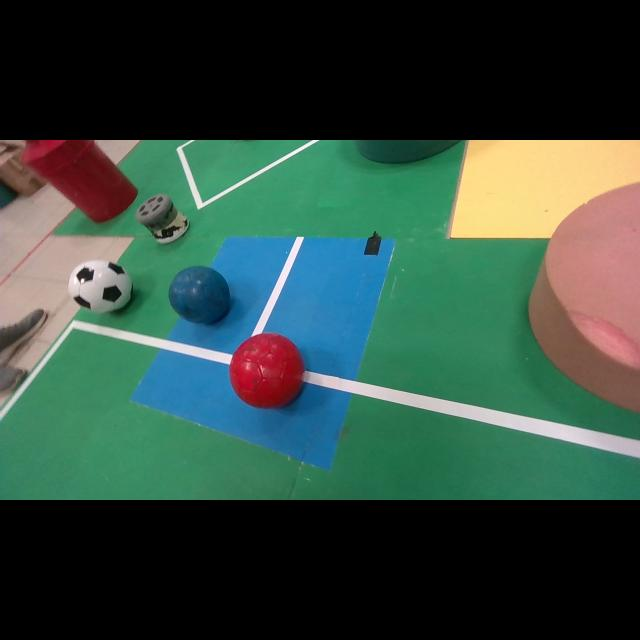B: (169, 266, 229, 324)
R: (229, 332, 305, 408)
